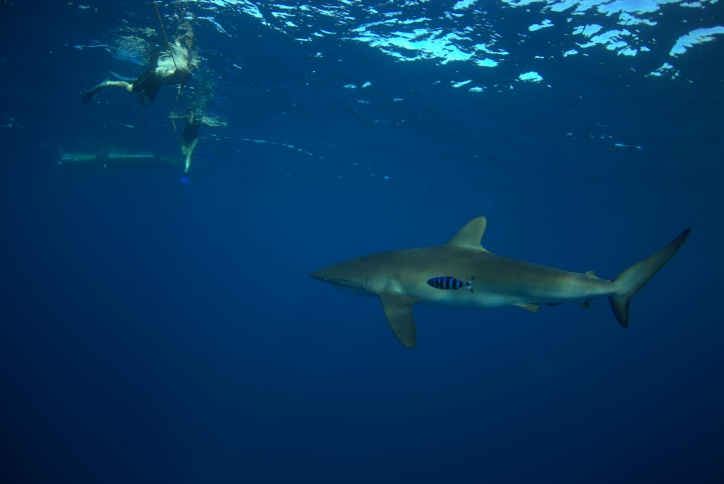Sedoso: (301, 210, 704, 362)
